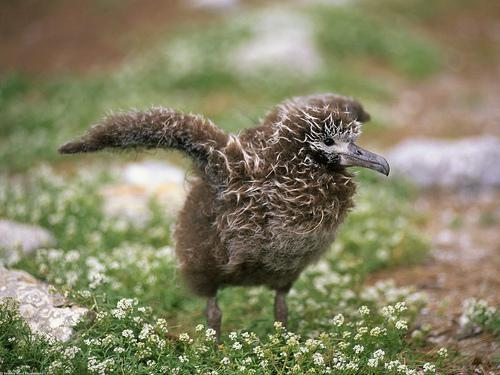002.Laysan_Albatross: (60, 94, 391, 338)
